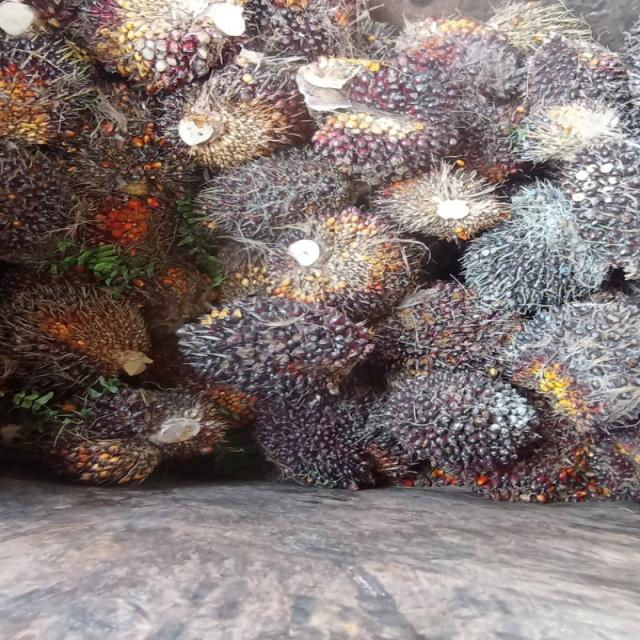fraksi 00: (186, 291, 369, 392), (0, 276, 165, 388), (376, 367, 538, 474), (266, 378, 408, 488), (510, 297, 640, 415), (188, 149, 356, 225), (452, 224, 592, 307)
fraksi 1: (299, 66, 463, 169)
